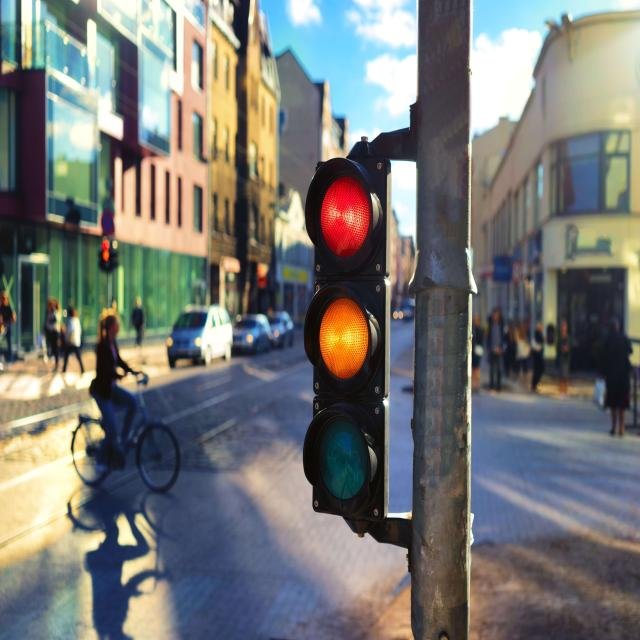red: (310, 146, 387, 283)
